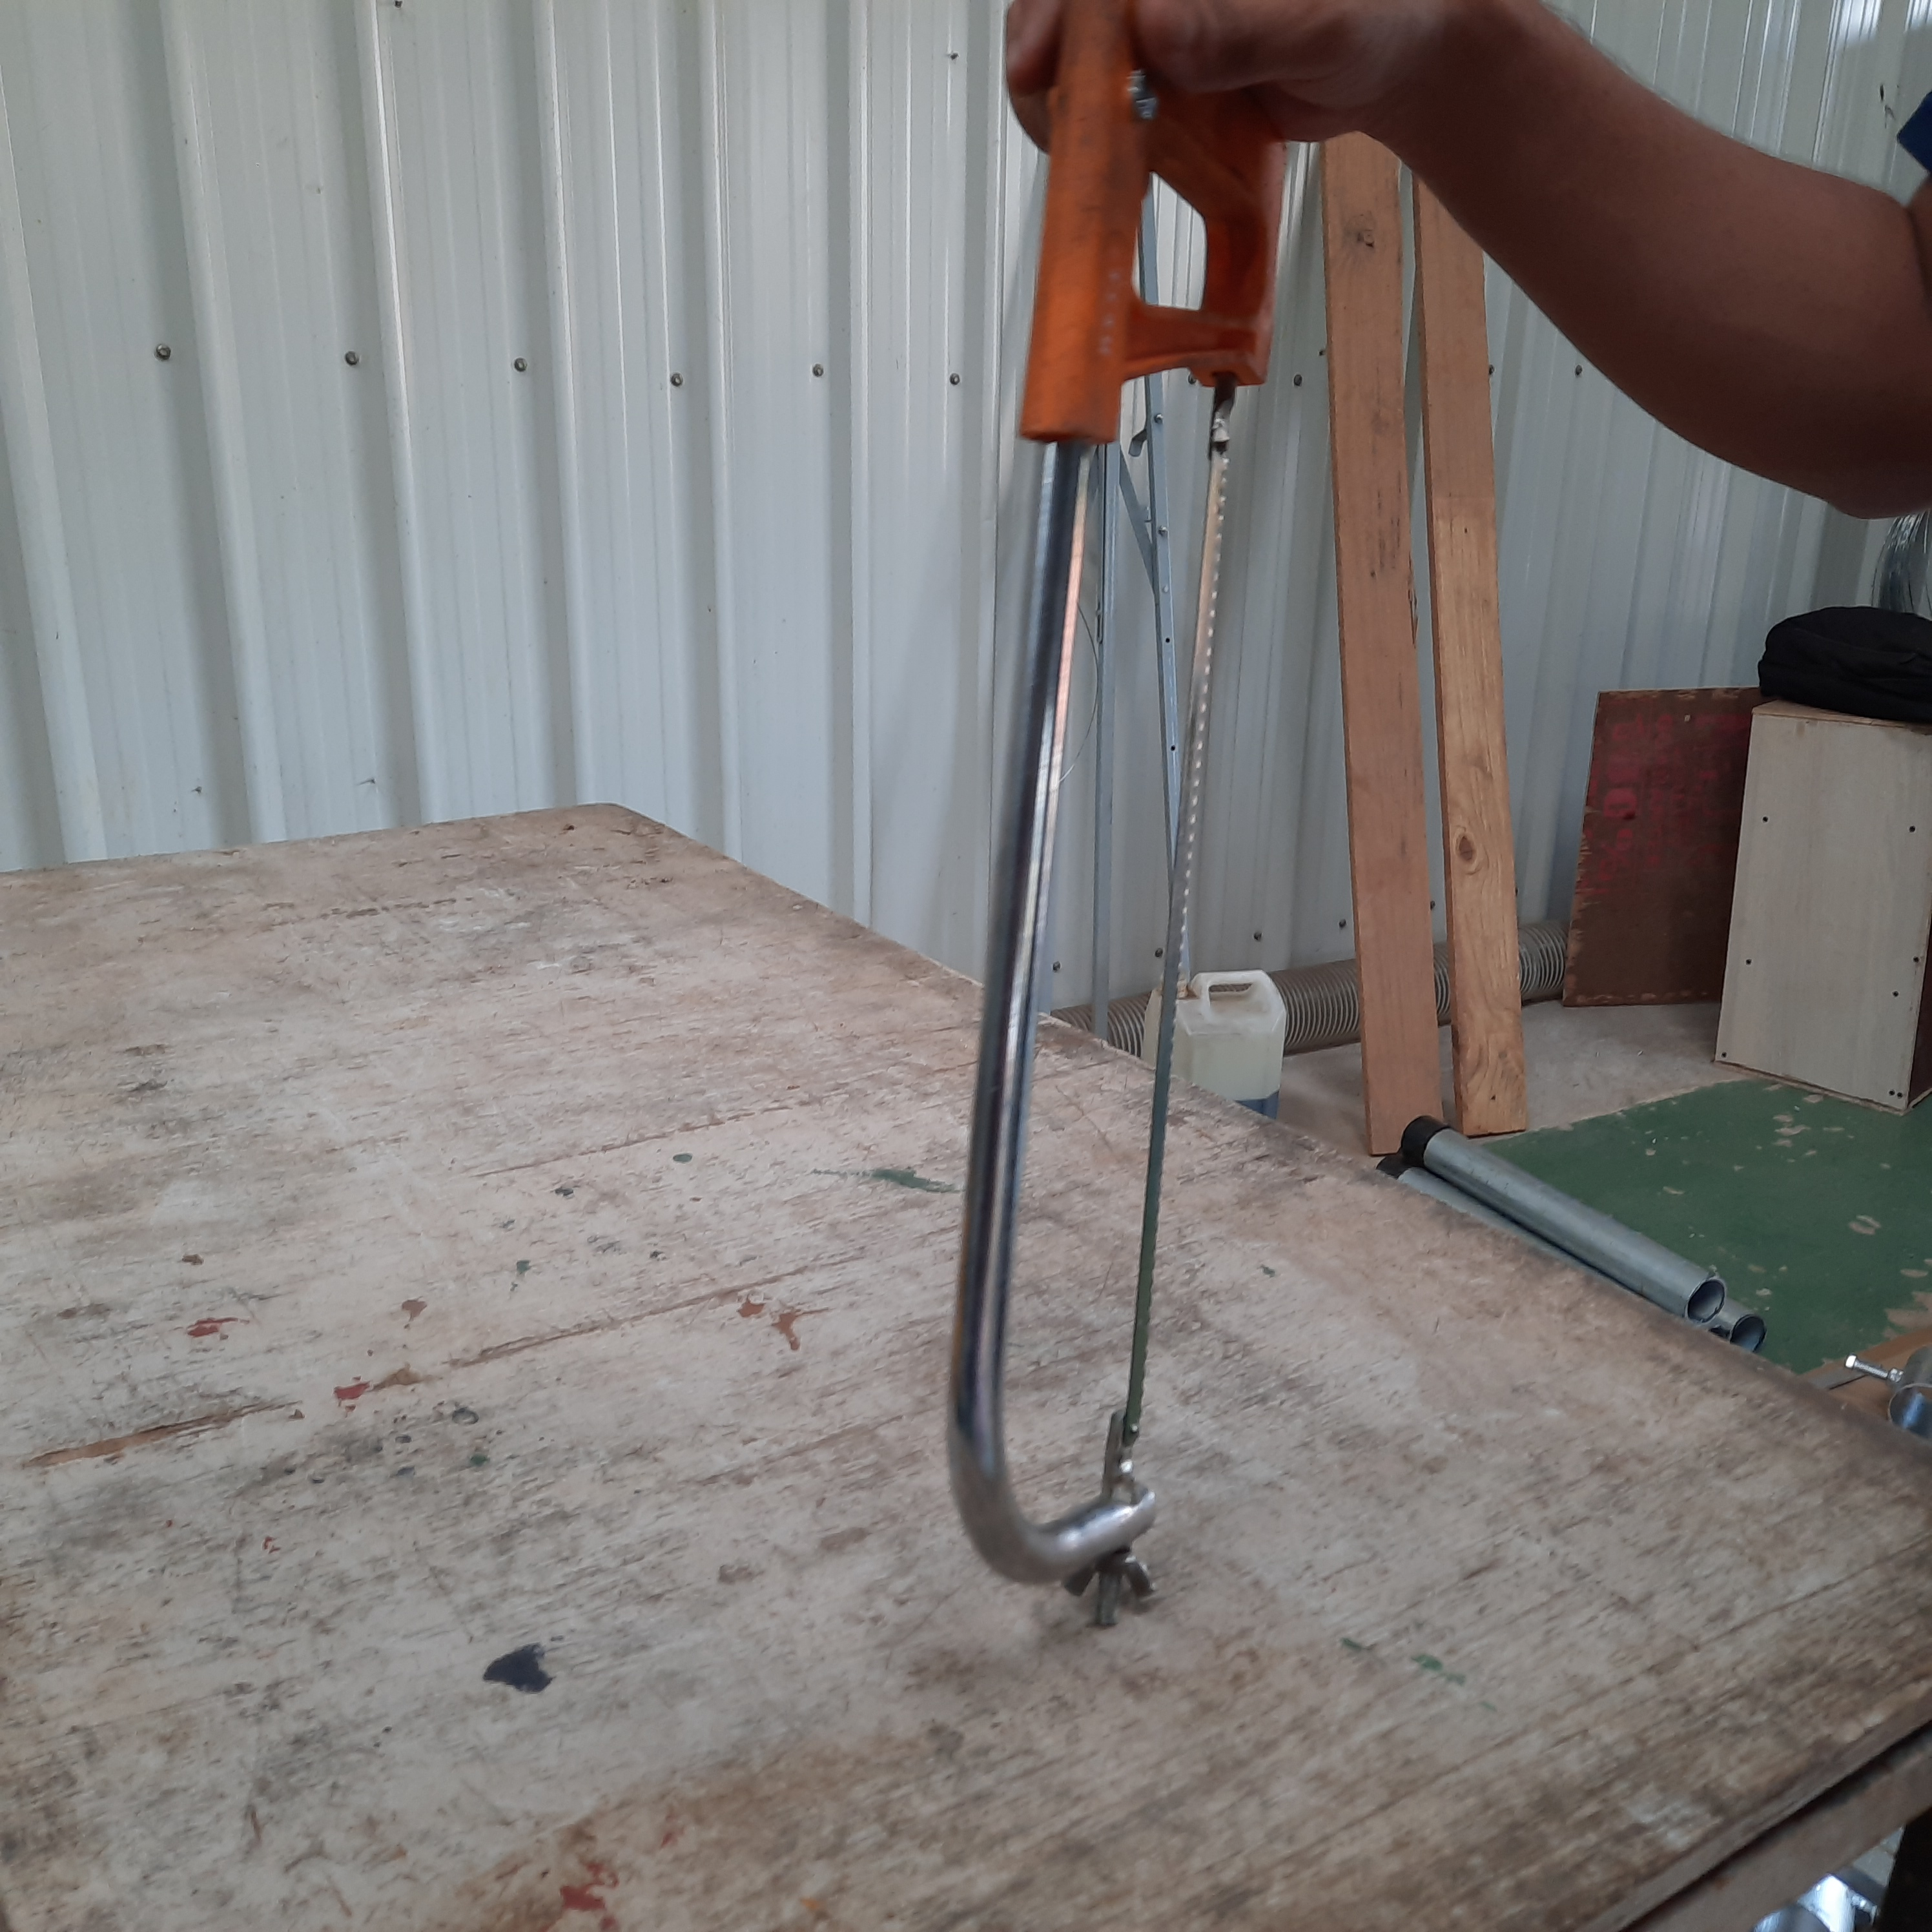Hexaframe: (879, 41, 1336, 1700)
